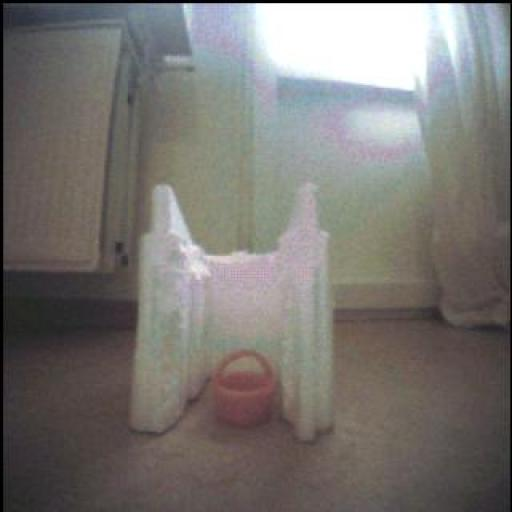Basket: (214, 350, 278, 428)
